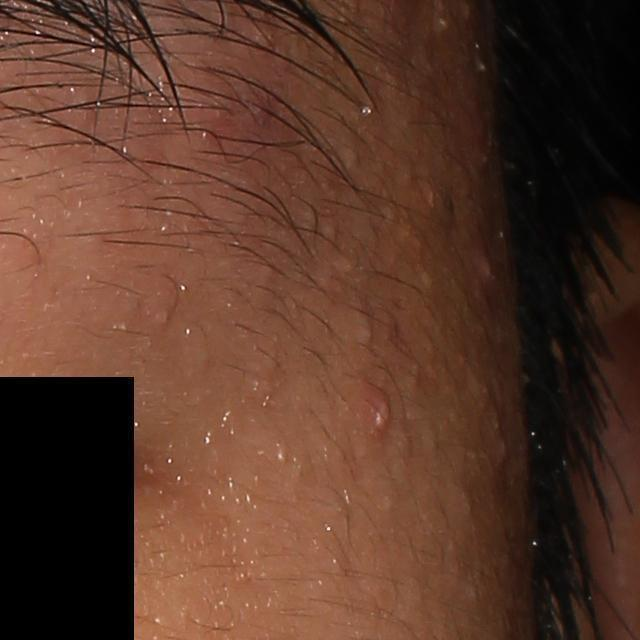comedo: (476, 390, 510, 458), (351, 306, 381, 353), (317, 218, 342, 252)
